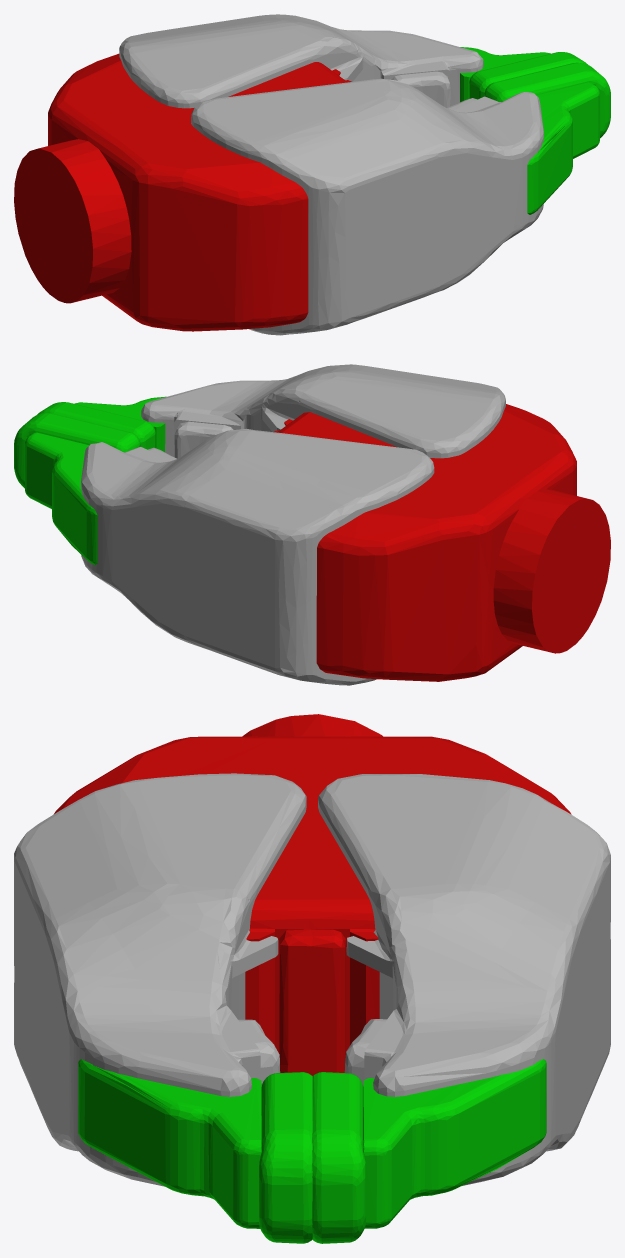
Rendered from pr2_gripper.dae.
The picture shows the model from 3 angles, top to bottom: view 1: azimuth 30°, elevation 25°; view 2: azimuth 150°, elevation 25°; view 3: azimuth 270°, elevation 25°; orthographic projection. The views are drawn at different scales.
Visible parts, largest first — view 1: l_gripper_palm_link, l_gripper_r_finger_link, l_gripper_l_finger_link, l_gripper_r_finger_tip_link, l_gripper_l_finger_tip_link; view 2: l_gripper_palm_link, l_gripper_l_finger_link, l_gripper_r_finger_link, l_gripper_l_finger_tip_link, l_gripper_r_finger_tip_link; view 3: l_gripper_r_finger_link, l_gripper_l_finger_link, l_gripper_palm_link, l_gripper_l_finger_tip_link, l_gripper_r_finger_tip_link.
Part boxes in pixels (box(x1,y1,x2,y2)): l_gripper_palm_link: box(14, 53, 351, 331); l_gripper_r_finger_link: box(191, 78, 543, 335); l_gripper_l_finger_link: box(119, 14, 483, 108); l_gripper_r_finger_tip_link: box(484, 62, 610, 214); l_gripper_l_finger_tip_link: box(460, 47, 587, 102); l_gripper_palm_link: box(273, 404, 610, 681); l_gripper_l_finger_link: box(81, 428, 434, 685); l_gripper_r_finger_link: box(141, 364, 505, 458); l_gripper_l_finger_tip_link: box(14, 412, 140, 565); l_gripper_r_finger_tip_link: box(37, 396, 166, 452); l_gripper_r_finger_link: box(14, 773, 306, 1186); l_gripper_l_finger_link: box(318, 774, 610, 1185); l_gripper_palm_link: box(54, 714, 571, 1075); l_gripper_l_finger_tip_link: box(312, 1059, 546, 1243); l_gripper_r_finger_tip_link: box(78, 1059, 312, 1243).
Size of the model in its own units: 0.1701 by 0.1115 by 0.0562.
